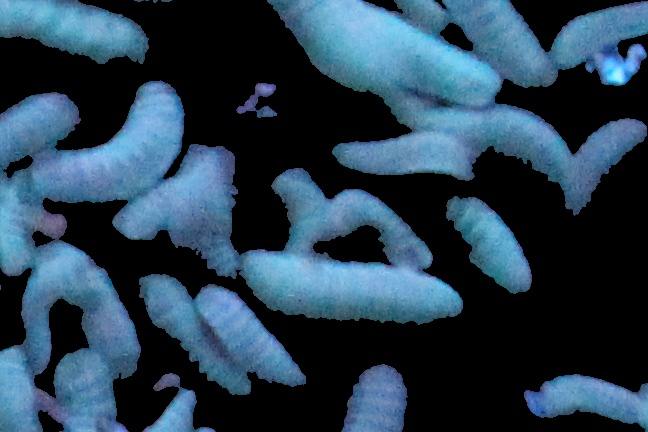larvae: (25, 84, 185, 211), (240, 249, 467, 328), (132, 270, 261, 406), (15, 249, 138, 371), (245, 1, 397, 98), (423, 1, 566, 92), (1, 1, 159, 80), (199, 291, 311, 389), (441, 188, 544, 291), (446, 102, 567, 175), (328, 130, 486, 184), (564, 107, 643, 213), (330, 186, 433, 265), (337, 348, 417, 432), (1, 94, 78, 181), (48, 354, 123, 432), (552, 3, 648, 63), (269, 169, 334, 257), (521, 374, 645, 420), (349, 1, 456, 37)
